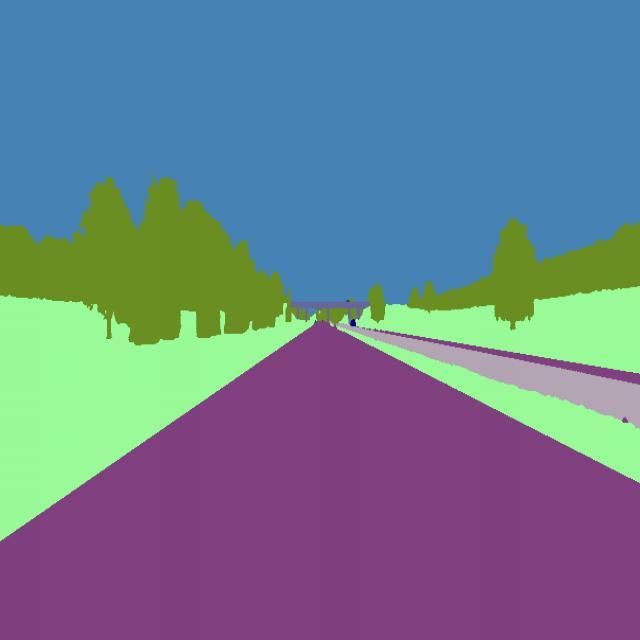safe: (347, 312, 357, 333)
